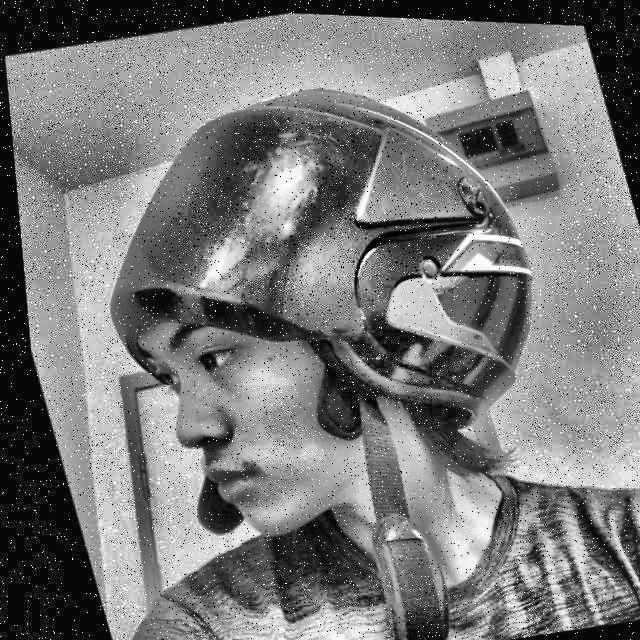Helmet: (34, 23, 632, 640)
